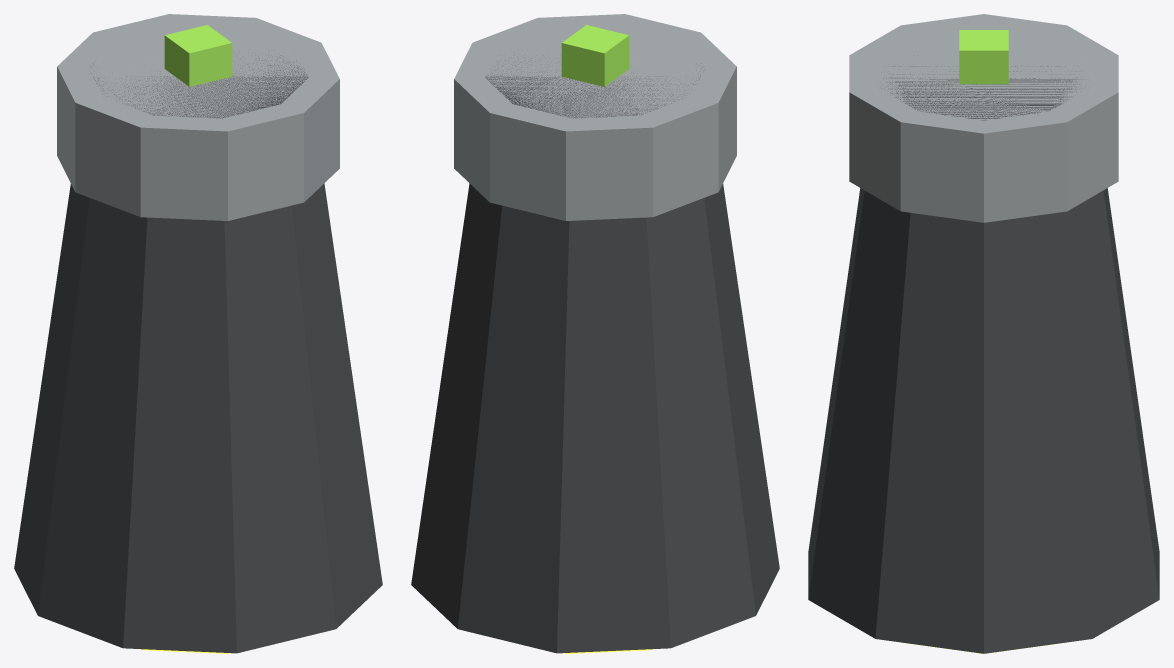
The model's file is main_engine_bell_mk1.glb.
3 views of the same model, side by side, from view 1: azimuth 30°, elevation 25°; view 2: azimuth 150°, elevation 25°; view 3: azimuth 270°, elevation 25° (orthographic).
Parts seen in each view (by area): view 1: GEO_MainEngine_Bell_DarkMetal, GEO_MainEngine_Front_Collar, VIS_PART_Main_Engine_Bell_Mk1_CONN_FRONT_HULL; view 2: GEO_MainEngine_Bell_DarkMetal, GEO_MainEngine_Front_Collar, VIS_PART_Main_Engine_Bell_Mk1_CONN_FRONT_HULL; view 3: GEO_MainEngine_Bell_DarkMetal, GEO_MainEngine_Front_Collar, VIS_PART_Main_Engine_Bell_Mk1_CONN_FRONT_HULL.
Boxes of the visible parts, left/top/right/bottom form: GEO_MainEngine_Bell_DarkMetal: left=14, top=52, right=382, bottom=653; GEO_MainEngine_Front_Collar: left=57, top=14, right=339, bottom=220; VIS_PART_Main_Engine_Bell_Mk1_CONN_FRONT_HULL: left=164, top=25, right=232, bottom=86; GEO_MainEngine_Bell_DarkMetal: left=411, top=58, right=779, bottom=653; GEO_MainEngine_Front_Collar: left=454, top=14, right=736, bottom=220; VIS_PART_Main_Engine_Bell_Mk1_CONN_FRONT_HULL: left=561, top=25, right=629, bottom=86; GEO_MainEngine_Bell_DarkMetal: left=808, top=66, right=1159, bottom=653; GEO_MainEngine_Front_Collar: left=849, top=14, right=1118, bottom=222; VIS_PART_Main_Engine_Bell_Mk1_CONN_FRONT_HULL: left=959, top=30, right=1008, bottom=84.
Size of the model in its own units: 0.6 by 1.05 by 0.5706.
